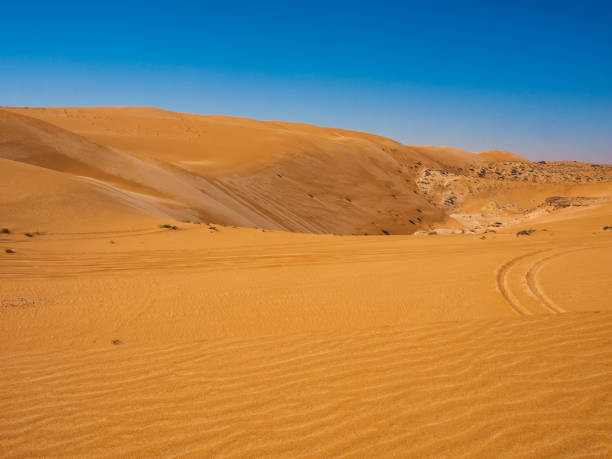vehicle_track: (519, 246, 596, 313), (525, 246, 598, 312), (525, 249, 583, 312), (496, 250, 543, 314)
